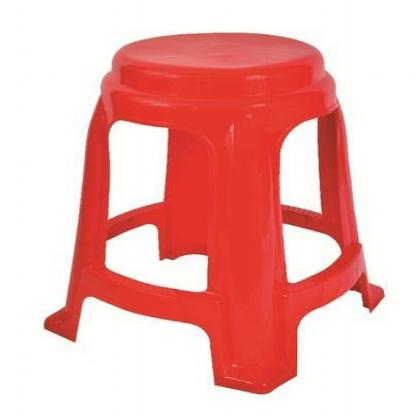chair: (44, 27, 396, 396)
